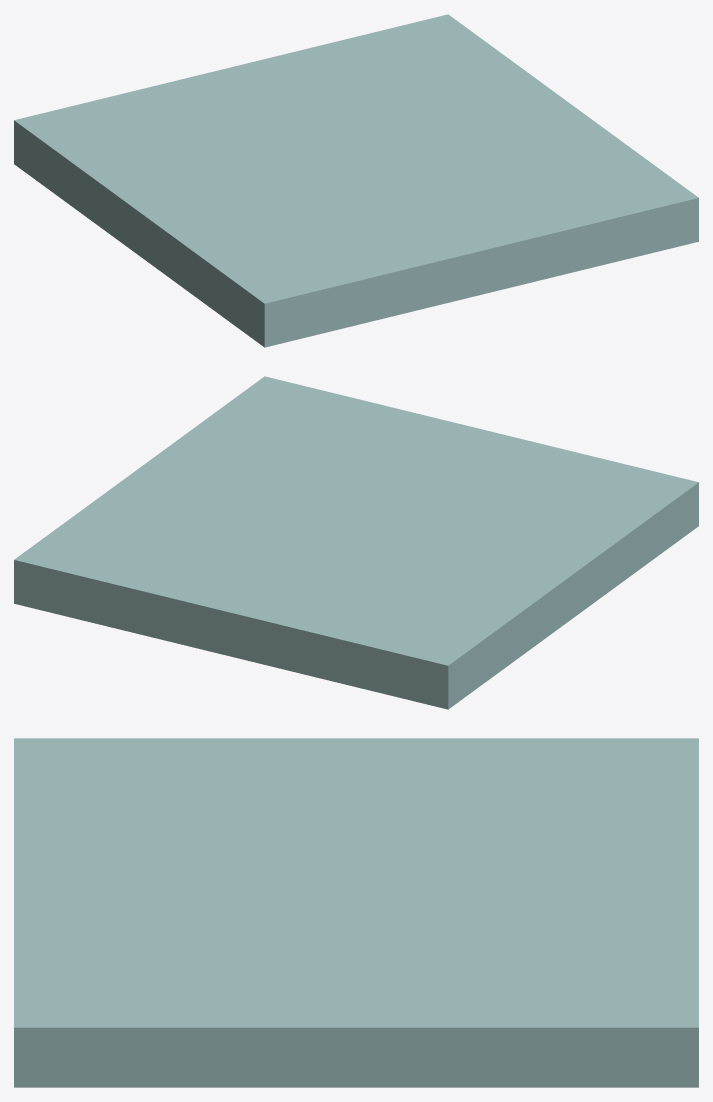
3 views of the same model, one above another, from view 1: azimuth 30°, elevation 25°; view 2: azimuth 150°, elevation 25°; view 3: azimuth 270°, elevation 25° (orthographic). The views are drawn at different scales.
Parts seen in each view (by area): view 1: pCube2; view 2: pCube2; view 3: pCube2.
Boxes of the visible parts, x1,y1,x2,y2 form: pCube2: (14, 14, 698, 347); pCube2: (14, 376, 698, 709); pCube2: (14, 738, 698, 1087).
Size of the model in its own units: 2.5 by 0.2414 by 2.5.
1 material, 1 textured.
